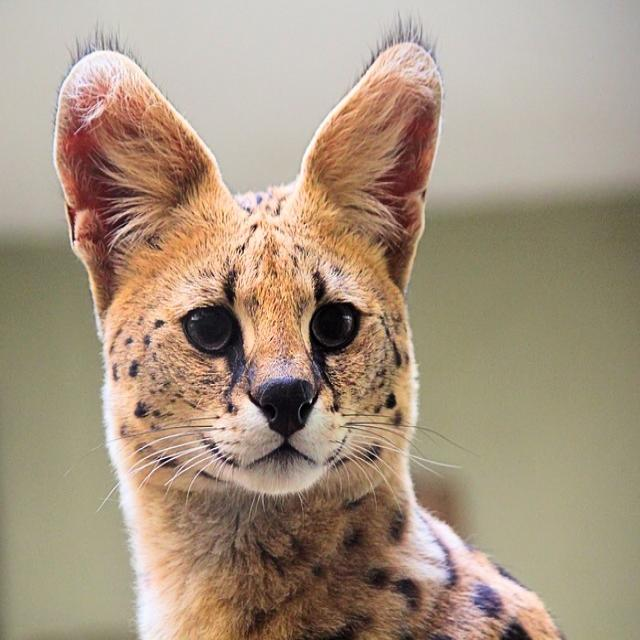Carnivorous: (52, 38, 567, 640)
